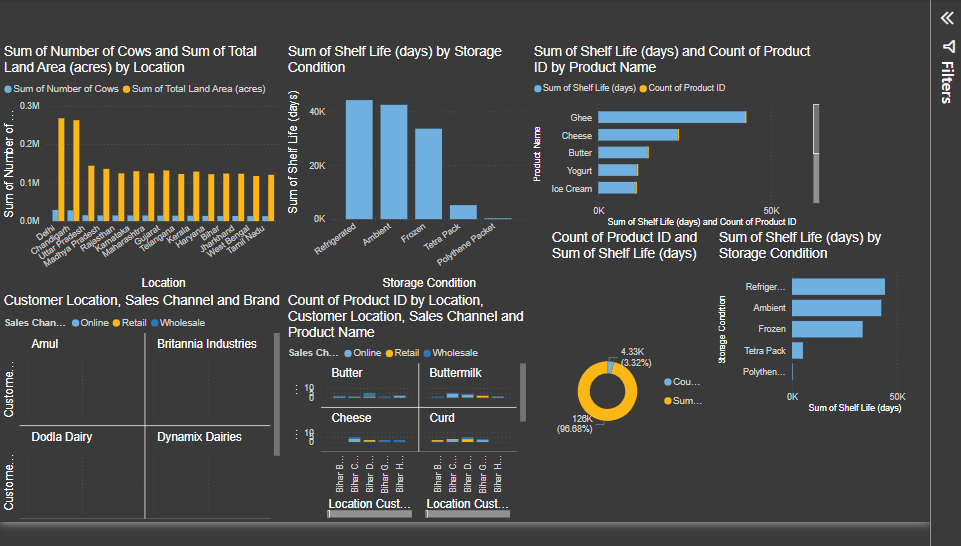

What the dashboard file says about the page in this screenshot:
{"tool":"powerbi","page":{"name":"Page 1","canvas":[1280,720],"ordinal":0},"visuals":[{"type":"clusteredColumnChart","fields":{"Category":["dairy.Location"],"Y":["Sum(dairy.Number of Cows)","Sum(dairy.Total Land Area (acres))"]},"box":[0,61.5,390.8,343.1],"z":0},{"type":"barChart","fields":{"Category":["dairy.Customer Location"],"Series":["dairy.Sales Channel"],"Rows":["dairy.Brand"]},"box":[0,404.6,390.8,315.4],"z":1000},{"type":"clusteredColumnChart","fields":{"Category":["dairy.Storage Condition"],"Y":["Sum(dairy.Shelf Life (days))"]},"box":[390.8,61.5,338.5,343.1],"z":2000},{"type":"columnChart","fields":{"Category":["dairy.Location","dairy.Customer Location"],"Series":["dairy.Sales Channel"],"Y":["CountNonNull(dairy.Product ID)"],"Rows":["dairy.Product Name"]},"box":[390.8,404.6,338.5,315.4],"z":3000},{"type":"barChart","fields":{"Y":["Sum(dairy.Shelf Life (days))","CountNonNull(dairy.Product ID)"],"Category":["dairy.Product Name"]},"box":[729.2,61.5,403.1,256.9],"z":4000},{"type":"donutChart","fields":{"Y":["CountNonNull(dairy.Product ID)","Sum(dairy.Shelf Life (days))"]},"box":[753.8,318.5,230.8,401.5],"z":5000},{"type":"clusteredBarChart","fields":{"Category":["dairy.Storage Condition"],"Y":["Sum(dairy.Shelf Life (days))"]},"box":[984.6,318.5,295.4,256.9],"z":6000}]}

Visuals, with their boxes in screenshot pixels (x1, y1, x2, y2):
clusteredColumnChart - dairy.Location x Sum(dairy.Number of Cows): <box>60,51,339,296</box>
barChart - dairy.Customer Location x dairy.Sales Channel: <box>60,296,339,522</box>
clusteredColumnChart - dairy.Storage Condition x Sum(dairy.Shelf Life (days)): <box>339,51,581,296</box>
columnChart - dairy.Location x dairy.Customer Location: <box>339,296,581,522</box>
barChart - Sum(dairy.Shelf Life (days)) x CountNonNull(dairy.Product ID): <box>581,51,869,235</box>
donutChart - CountNonNull(dairy.Product ID) x Sum(dairy.Shelf Life (days)): <box>598,235,763,522</box>
clusteredBarChart - dairy.Storage Condition x Sum(dairy.Shelf Life (days)): <box>763,235,960,418</box>
